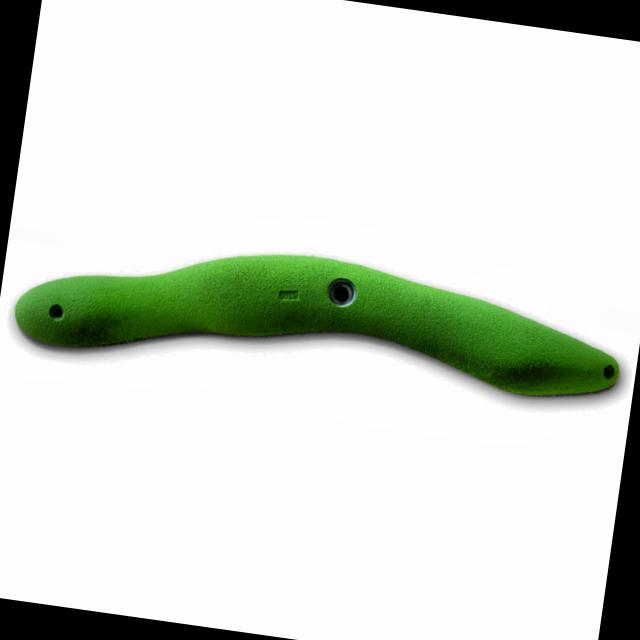Hold: (2, 234, 632, 423)
